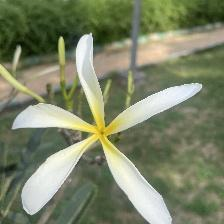champaka: (12, 34, 207, 224)
